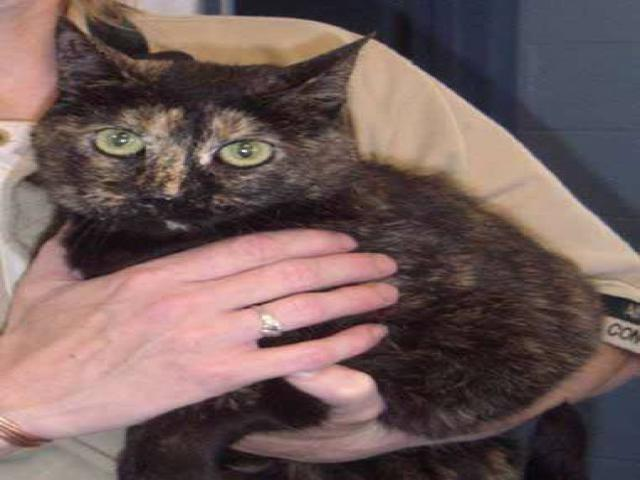cat: (23, 14, 555, 480)
